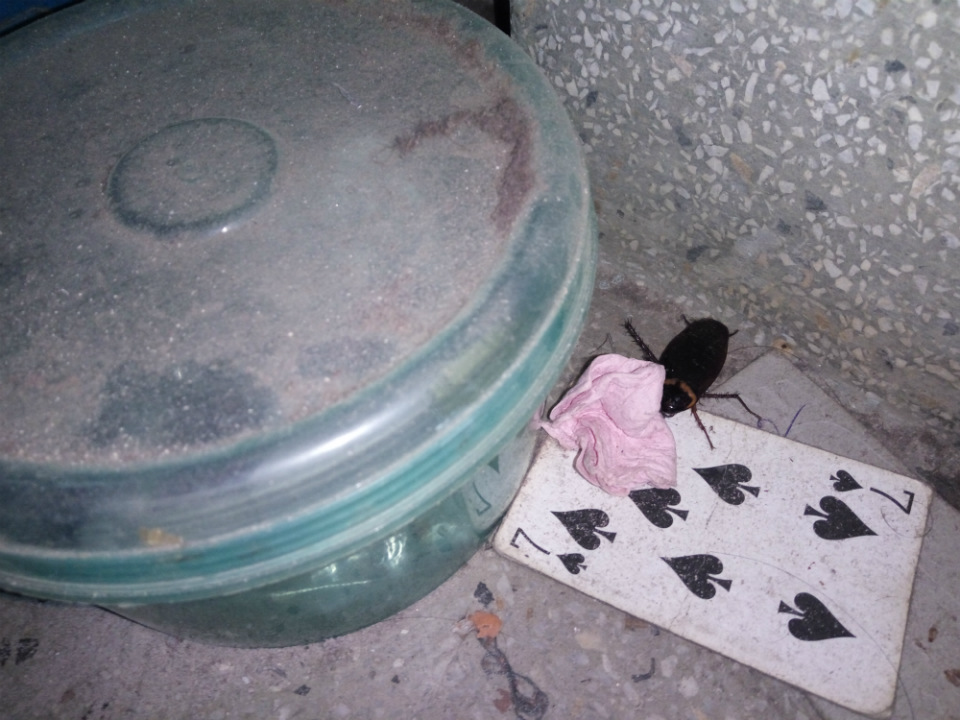cockroach: (612, 275, 797, 442)
